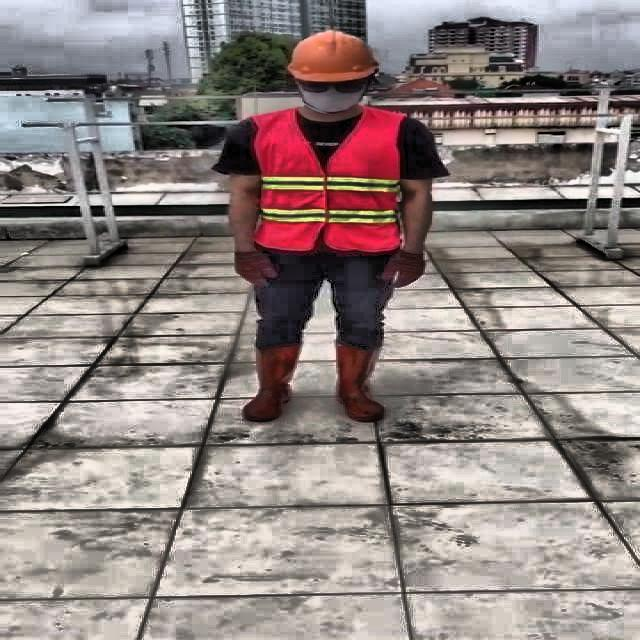safety_helmet: (284, 27, 382, 90)
safety_jacket: (255, 110, 406, 254)
